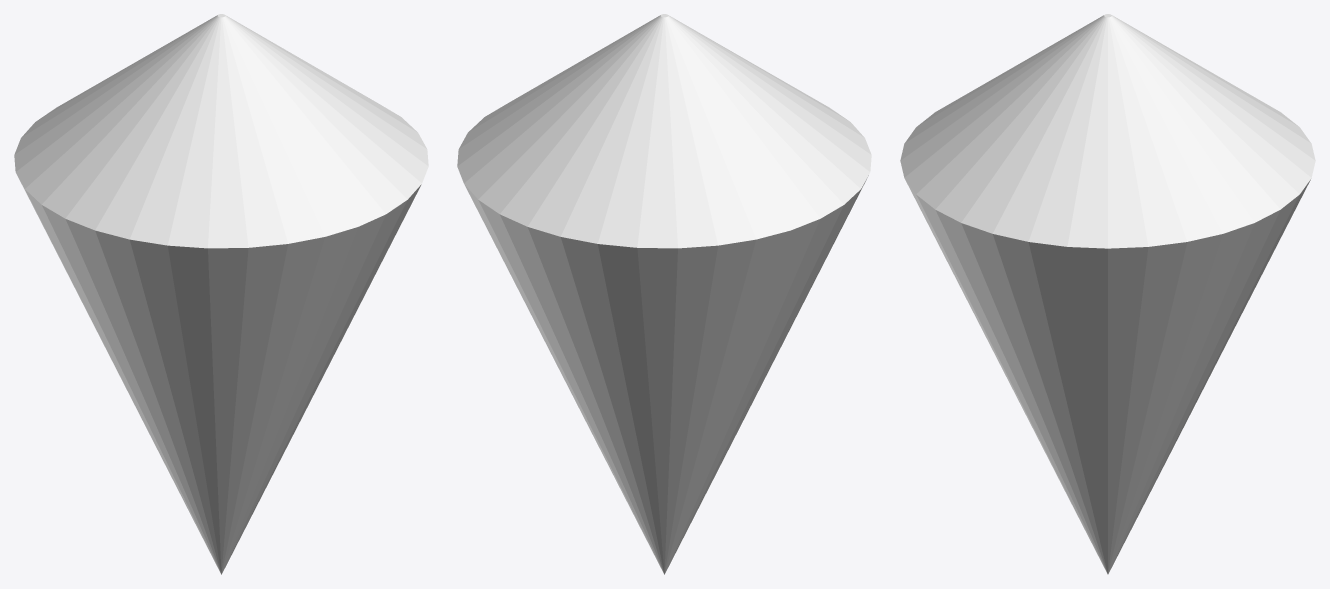
File: diamantee.fbx
3 renders of one model, left to right at view 1: azimuth 30°, elevation 25°; view 2: azimuth 150°, elevation 25°; view 3: azimuth 270°, elevation 25°, orthographic.
Parts seen in each view (by area): view 1: Diamante; view 2: Diamante; view 3: Diamante.
Part boxes in pixels (<box>): Diamante: <box>14,14,428,574</box>; Diamante: <box>457,14,871,574</box>; Diamante: <box>900,14,1315,574</box>.
Bounding box in the file's own units: 182 × 270 × 182.
Materials: 1 (1 with a texture image).
